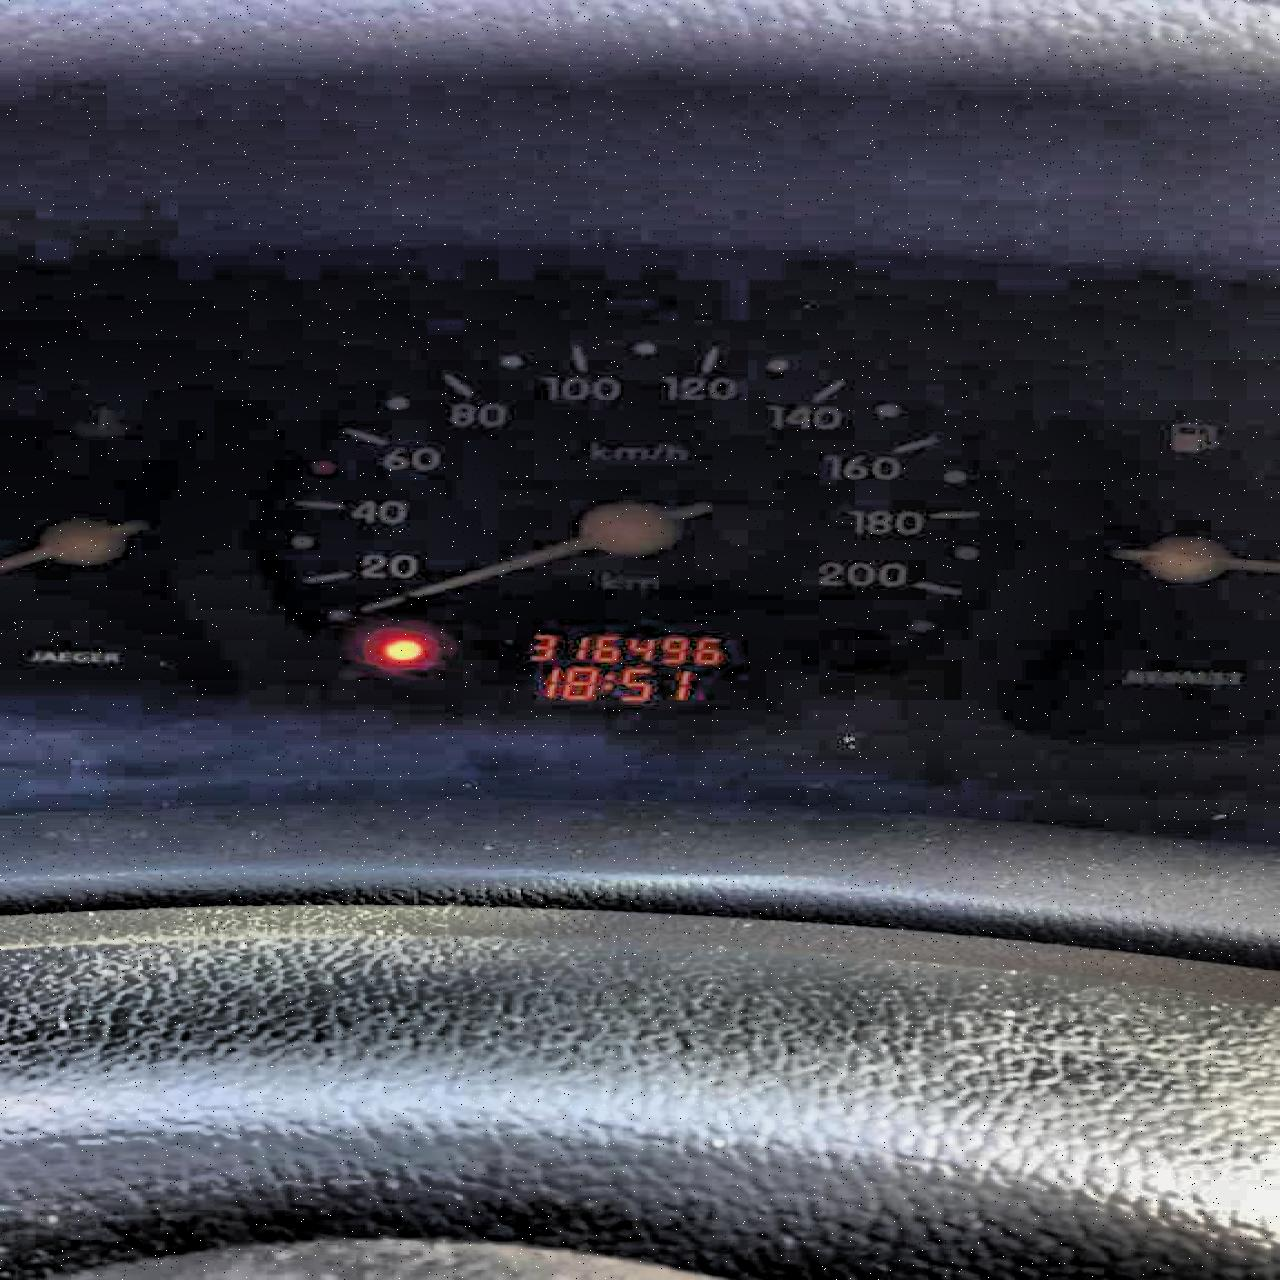1: (668, 668, 694, 700), (540, 667, 557, 697), (572, 634, 587, 661)
3: (530, 632, 557, 660)
4: (628, 636, 654, 660)
5: (619, 667, 652, 701)
6: (592, 634, 621, 661), (695, 636, 720, 662)
8: (560, 665, 594, 700)
9: (659, 635, 688, 662)
X: (601, 672, 614, 693)
odometer: (483, 621, 748, 710)
